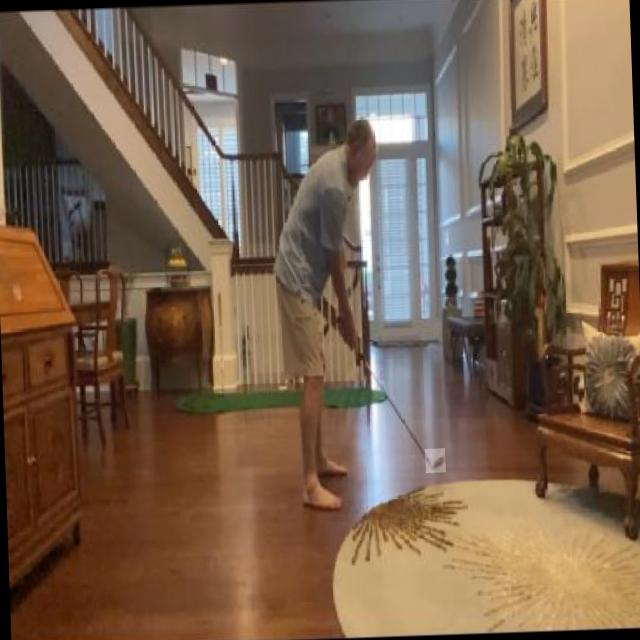club head: (424, 448, 446, 472)
